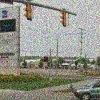traffic lights: (60, 9, 68, 28)
